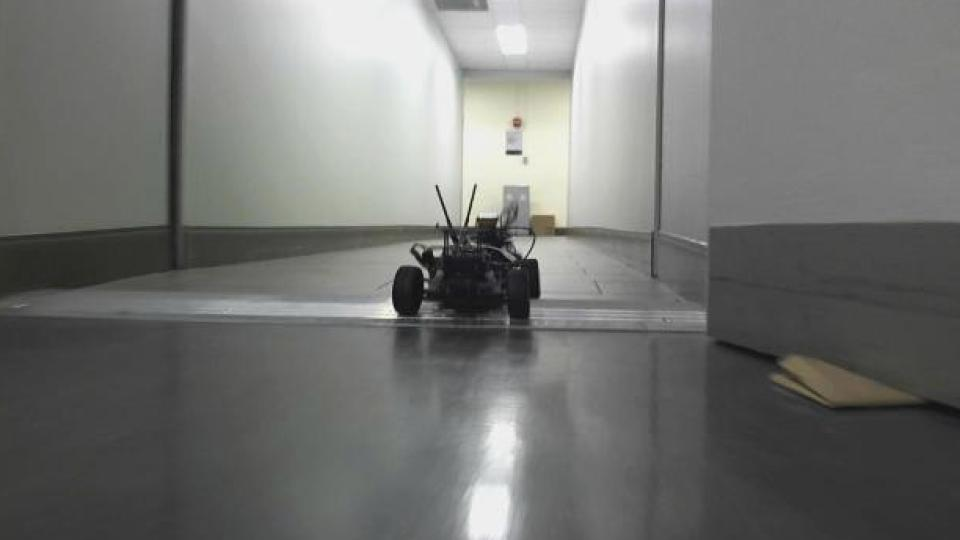car: (389, 180, 546, 324)
